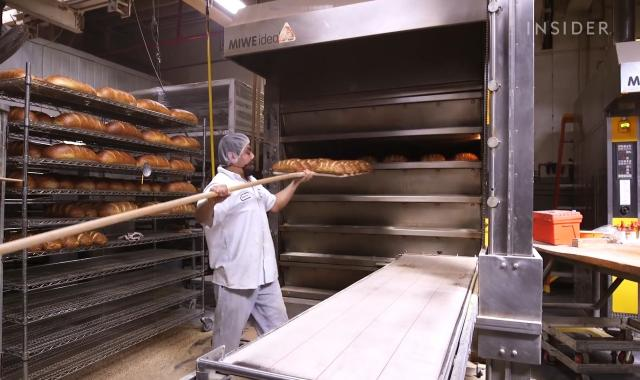hairnet: (219, 131, 249, 171)
